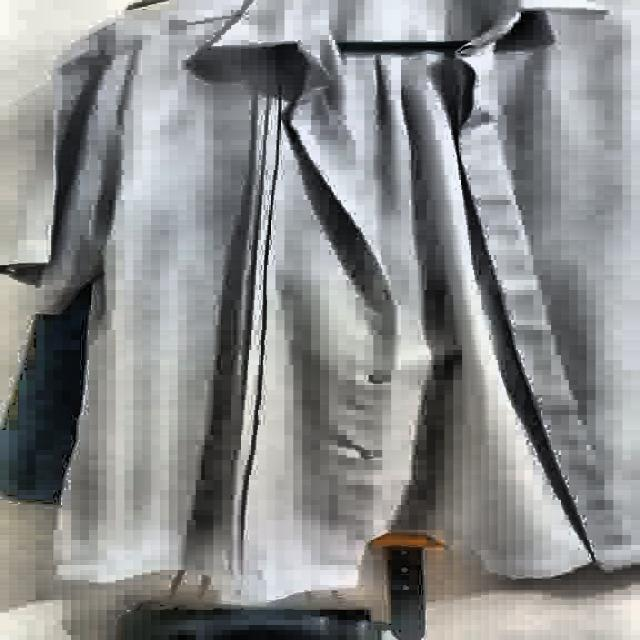clothes: (18, 0, 634, 600)
